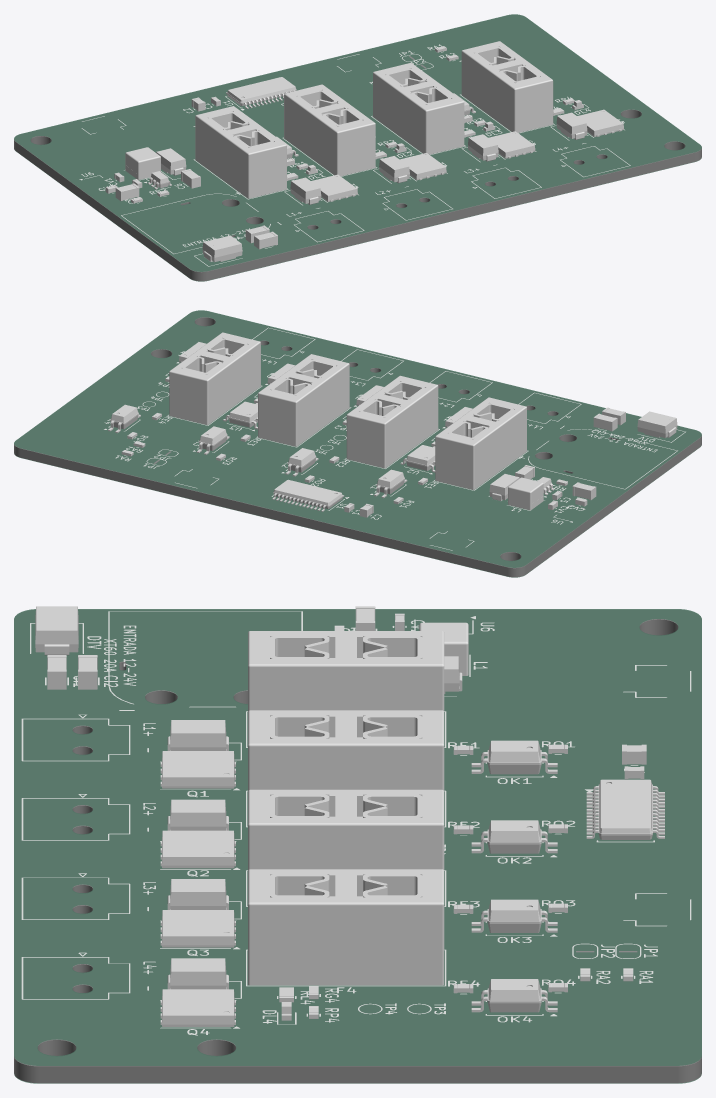
File: AP_PWM4.glb
3 views of the same model, one above another, from view 1: azimuth 30°, elevation 25°; view 2: azimuth 150°, elevation 25°; view 3: azimuth 270°, elevation 25° (orthographic). The views are drawn at different scales.
Parts seen in each view (by area): view 1: =>[0:1:1:22], =>[0:1:1:20], F4, F1, F2, F3, =>[0:1:1:18], U1, L1, DTV, Q2, Q1 (+8 smaller); view 2: =>[0:1:1:22], =>[0:1:1:20], F2, F3, F1, F4, =>[0:1:1:18], U1, L1, DTV, =>[0:1:1:21], U2 (+6 smaller); view 3: =>[0:1:1:22], =>[0:1:1:20], F4, F3, F1, F2, =>[0:1:1:18], U1, Q2, Q3, Q1, Q4 (+10 smaller).
Boxes of the visible parts, bbox=[...] form: =>[0:1:1:22]: bbox=[14, 15, 701, 281]; =>[0:1:1:20]: bbox=[14, 14, 701, 271]; F4: bbox=[461, 41, 553, 132]; F1: bbox=[195, 106, 286, 198]; F2: bbox=[284, 84, 375, 176]; F3: bbox=[373, 63, 464, 154]; =>[0:1:1:18]: bbox=[79, 44, 630, 266]; U1: bbox=[226, 77, 296, 108]; L1: bbox=[125, 147, 160, 179]; DTV: bbox=[202, 235, 242, 262]; Q2: bbox=[400, 153, 446, 180]; Q1: bbox=[311, 174, 357, 201]; =>[0:1:1:22]: bbox=[14, 311, 701, 577]; =>[0:1:1:20]: bbox=[14, 310, 701, 567]; F2: bbox=[346, 375, 438, 468]; F3: bbox=[258, 354, 349, 446]; F1: bbox=[435, 397, 526, 489]; F4: bbox=[169, 332, 260, 424]; =>[0:1:1:18]: bbox=[104, 327, 685, 550]; U1: bbox=[272, 479, 344, 511]; L1: bbox=[508, 477, 543, 510]; DTV: bbox=[637, 411, 677, 437]; =>[0:1:1:21]: bbox=[14, 445, 701, 577]; U2: bbox=[400, 445, 435, 472]; =>[0:1:1:22]: bbox=[14, 610, 701, 1083]; =>[0:1:1:20]: bbox=[14, 609, 701, 1065]; F4: bbox=[248, 869, 444, 985]; F3: bbox=[248, 789, 444, 870]; F1: bbox=[248, 631, 444, 711]; F2: bbox=[248, 710, 444, 790]; =>[0:1:1:18]: bbox=[21, 611, 691, 1035]; U1: bbox=[586, 779, 664, 839]; Q2: bbox=[160, 830, 235, 868]; Q3: bbox=[160, 910, 235, 947]; Q1: bbox=[160, 751, 235, 788]; Q4: bbox=[160, 989, 235, 1026].
Bounding box in the file's own units: 0.088 × 0.0102 × 0.056.
